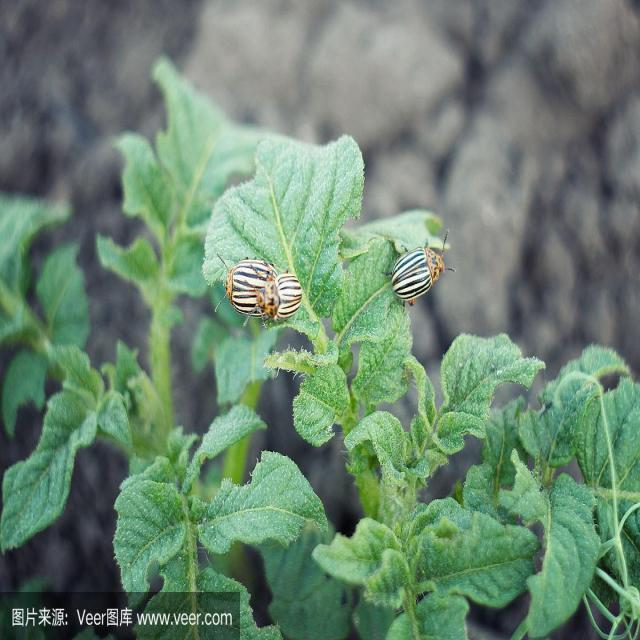ShuCaiHuaBanChong-Grown-: (211, 259, 283, 320), (389, 225, 438, 305), (256, 275, 307, 323)
